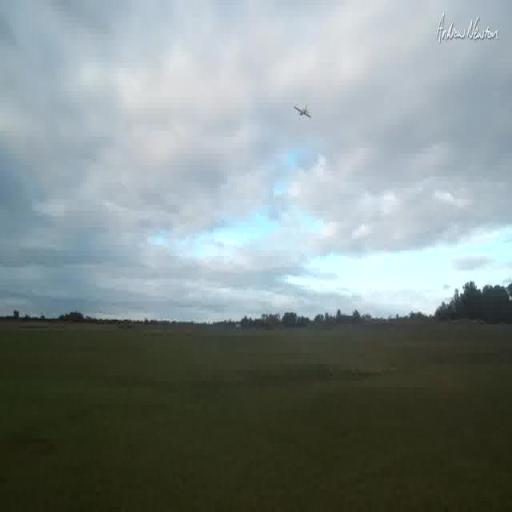uav: (295, 104, 315, 122)
